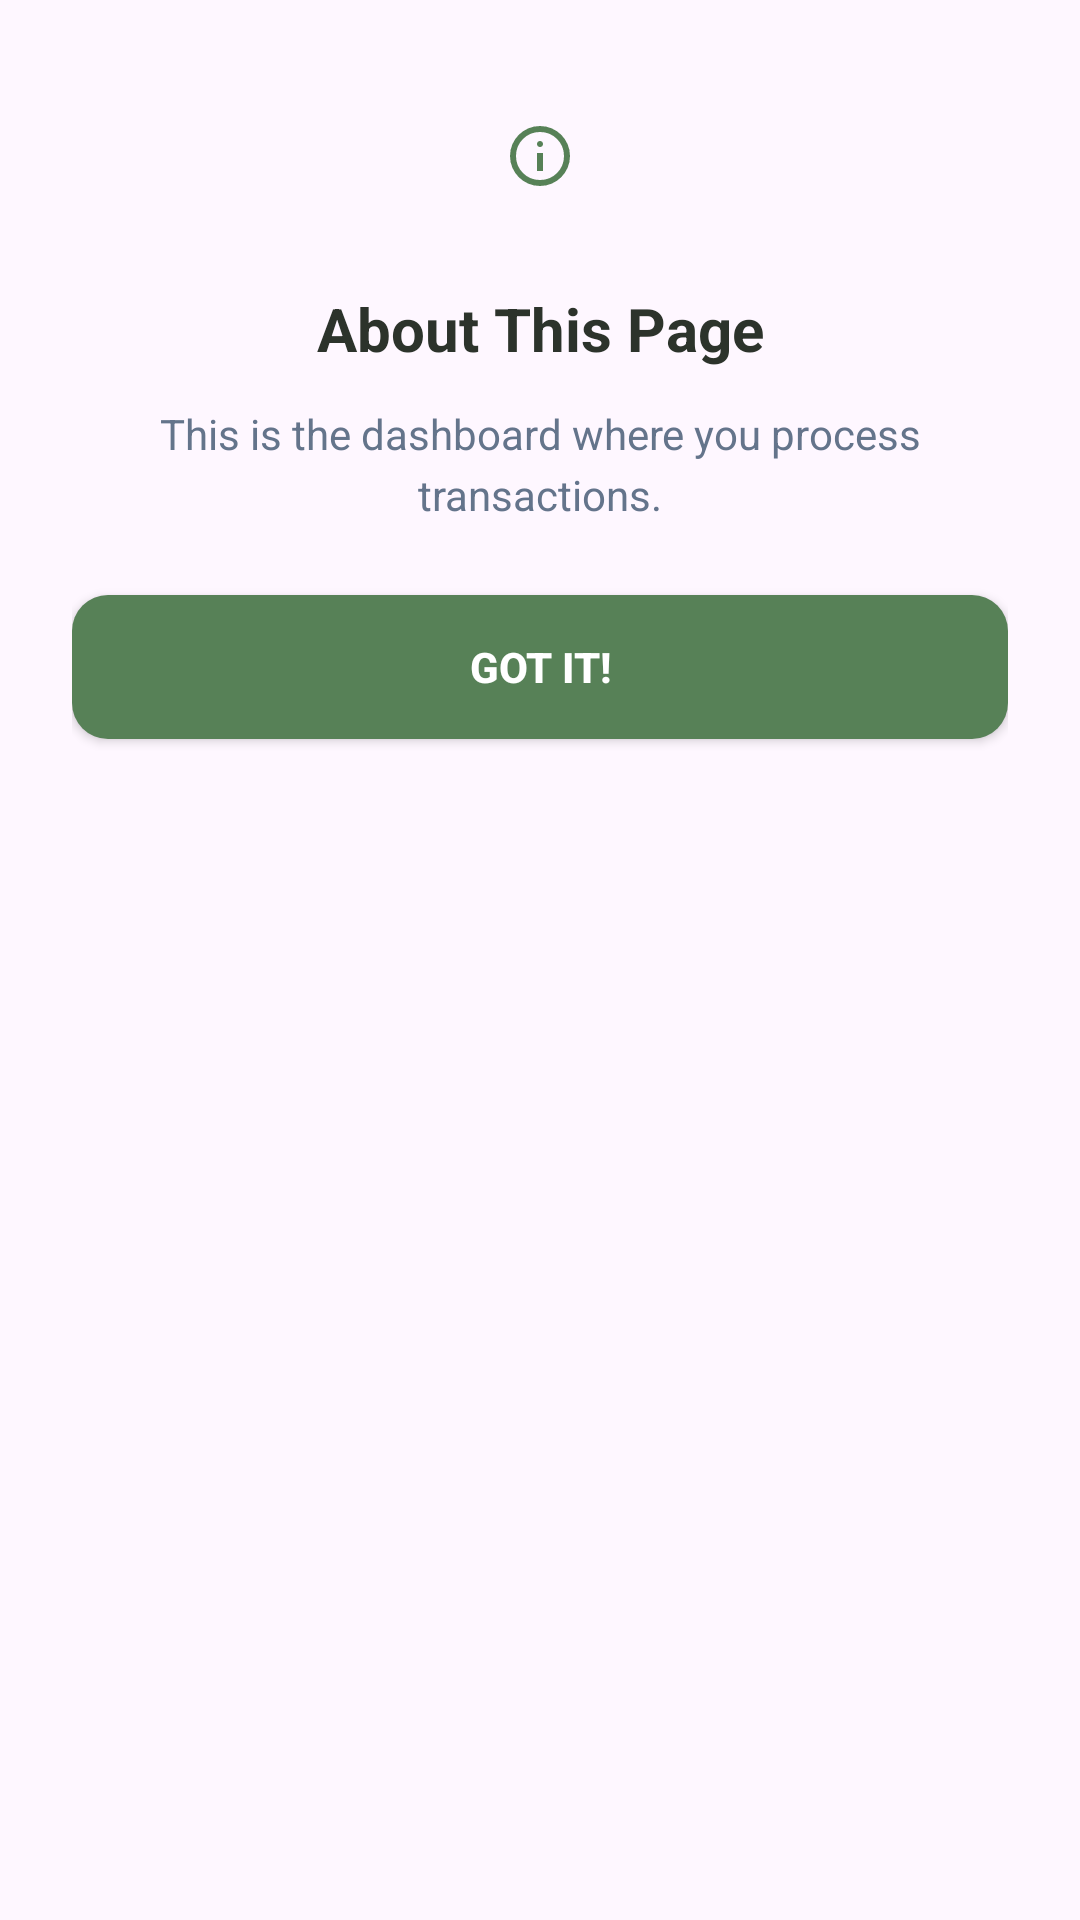

Screen size 1080 × 1920. Icon name, then its box in pixels as {"left": x1, "top": y1, "right": x2, "bottom": y2}:
info: {"left": 510, "top": 126, "right": 570, "bottom": 186}
